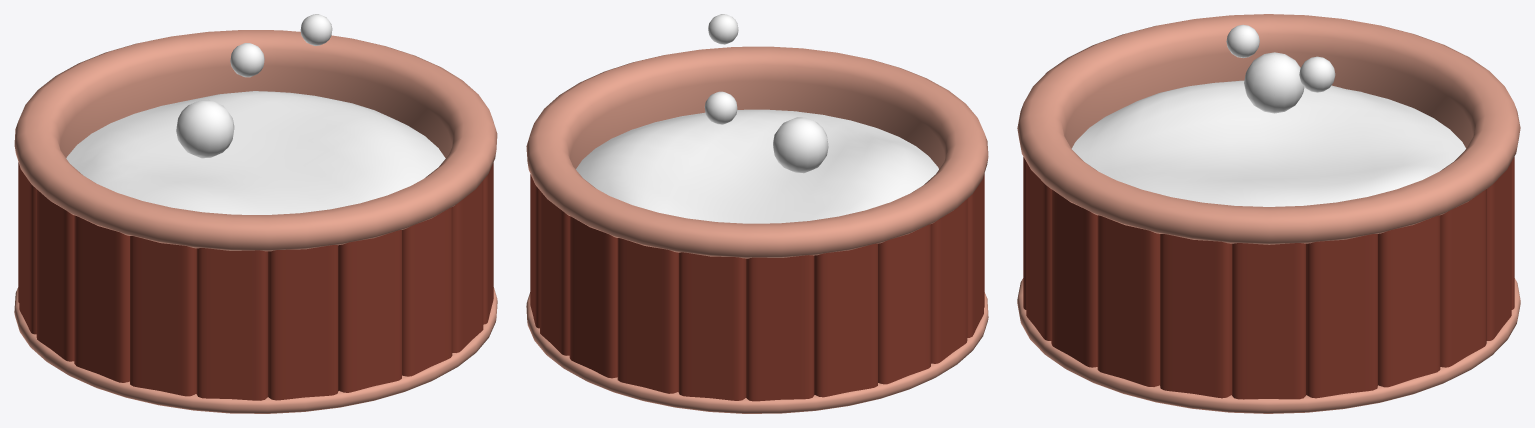
File: water-bowl.glb
3 renders of one model, left to right at view 1: azimuth 30°, elevation 25°; view 2: azimuth 150°, elevation 25°; view 3: azimuth 270°, elevation 25°, orthographic. The views are drawn at different scales.
Visible parts, largest first — view 1: jacuzzi; view 2: jacuzzi; view 3: jacuzzi.
Boxes of the visible parts, x1,y1,x2,y2 form: jacuzzi: (14, 14, 497, 413); jacuzzi: (526, 14, 988, 413); jacuzzi: (1017, 14, 1520, 413).
Bounding box in the file's own units: 5.38 × 3.65 × 5.38.
1 material, 1 textured.
